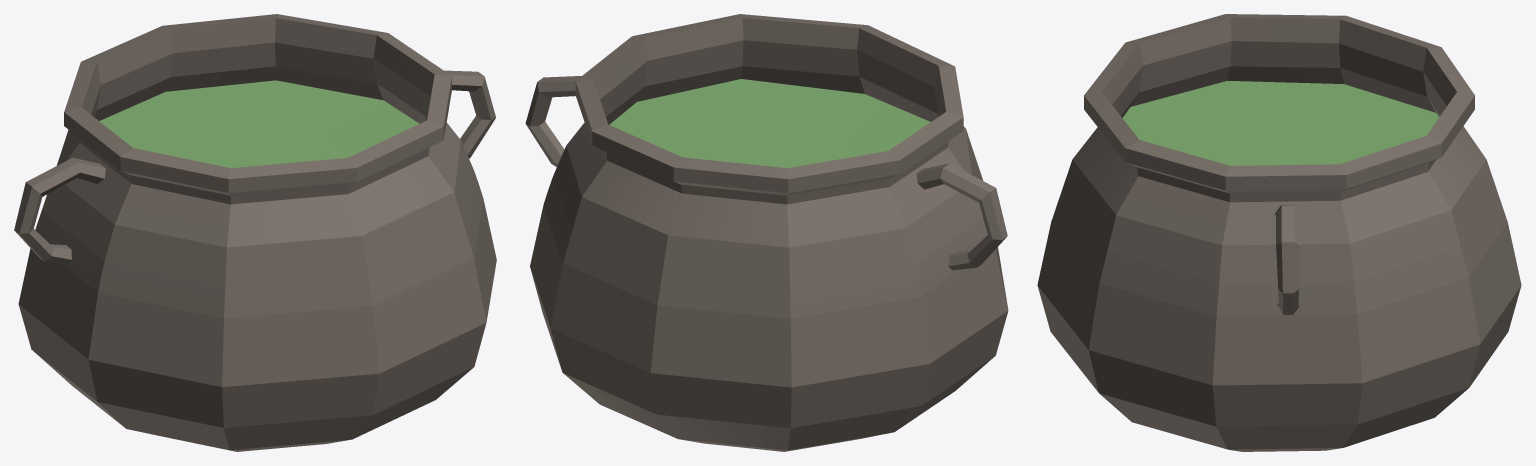
File: cauldron.fbx
3 views of the same model, side by side, from view 1: azimuth 30°, elevation 25°; view 2: azimuth 150°, elevation 25°; view 3: azimuth 270°, elevation 25° (orthographic).
Parts seen in each view (by area): view 1: pCylinder1; view 2: pCylinder1; view 3: pCylinder1.
Boxes of the visible parts, bbox=[...] form: pCylinder1: bbox=[14, 14, 496, 451]; pCylinder1: bbox=[525, 14, 1008, 451]; pCylinder1: bbox=[1037, 14, 1521, 451].
Bounding box in the file's own units: 2.6 × 1.57 × 2.27.
